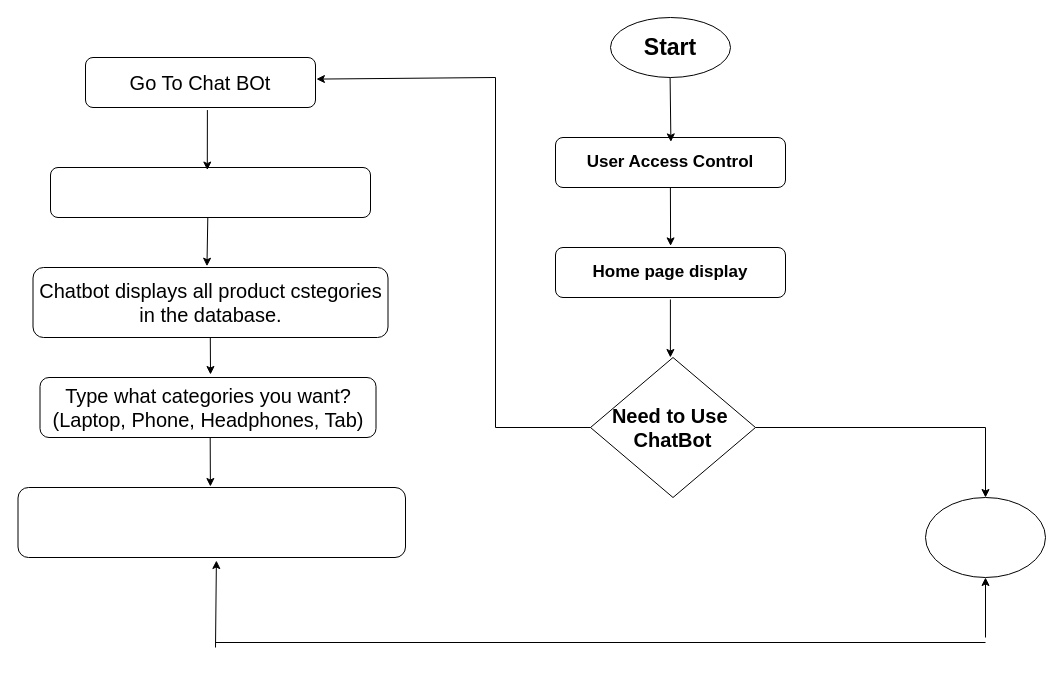
Some shapes in this 1063 by 673 pixel diagram are drawn without their labels. Here are the shapes that lost their labels. From the top down, the box of each, then its label:
(50, 166, 370, 218): Type " product categories "
(17, 486, 406, 558): Displays products details related to the entered category
(924, 496, 1046, 578): End
